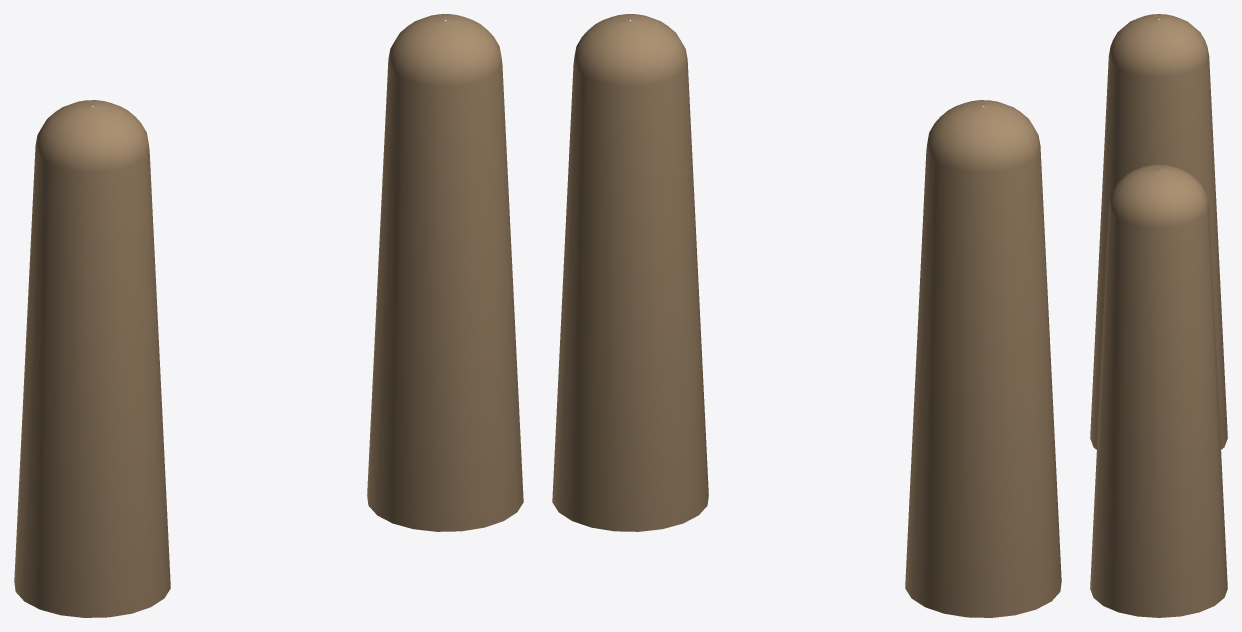
File: first_person_arms.glb
3 views of the same model, side by side, from view 1: azimuth 30°, elevation 25°; view 2: azimuth 150°, elevation 25°; view 3: azimuth 270°, elevation 25° (orthographic). The views are drawn at different scales.
Parts seen in each view (by area): view 1: left_arm, right_arm; view 2: left_arm, right_arm; view 3: right_arm, left_arm.
Boxes of the visible parts, bbox=[...] form: left_arm: bbox=[14, 100, 170, 617]; right_arm: bbox=[367, 14, 523, 531]; left_arm: bbox=[905, 100, 1061, 617]; right_arm: bbox=[552, 14, 708, 531]; right_arm: bbox=[1090, 164, 1227, 617]; left_arm: bbox=[1090, 14, 1227, 449].
Size of the model in its own units: 0.61 by 0.6 by 0.17.
